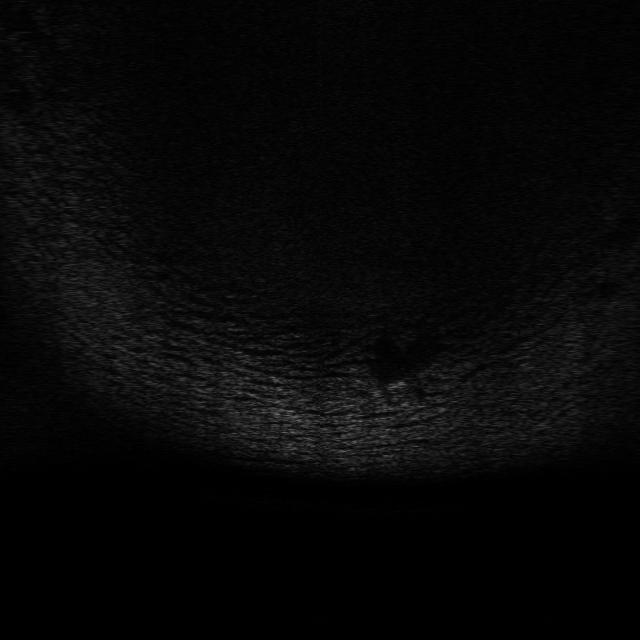plane: (372, 364, 442, 402)
